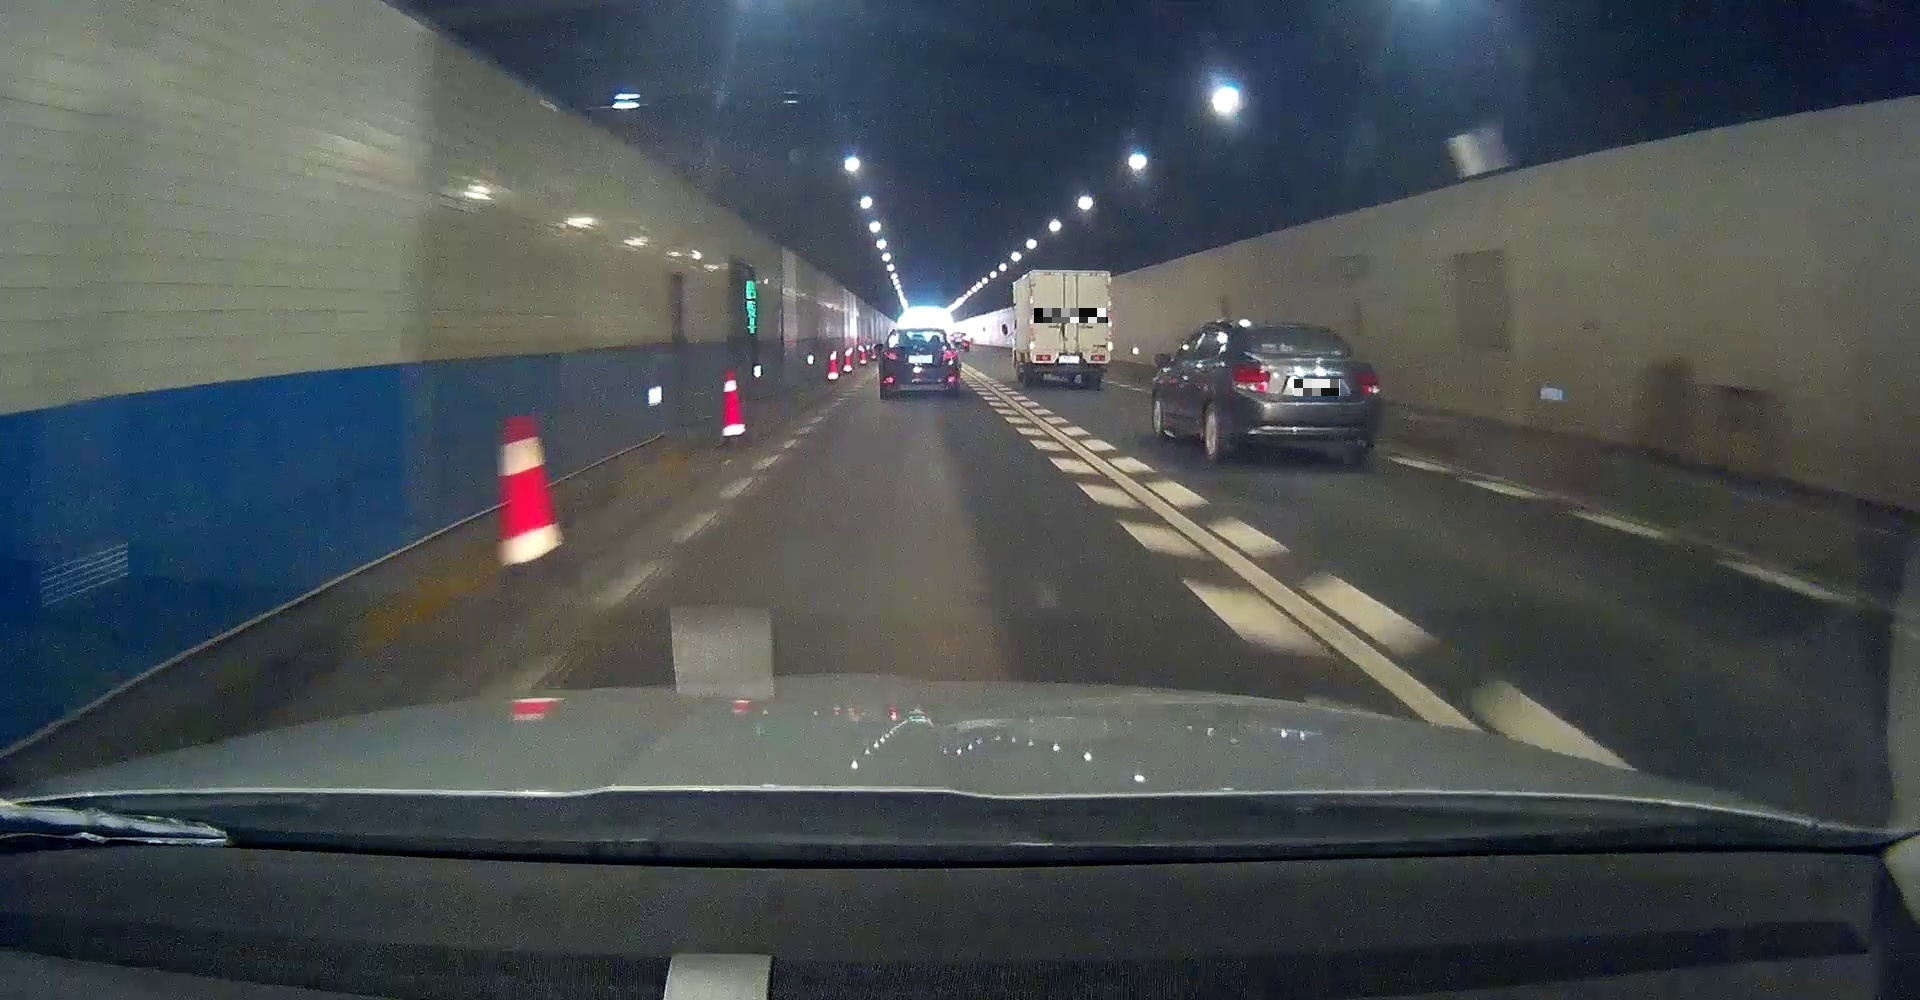L_light: (1232, 365, 1270, 393), (883, 352, 898, 360), (1036, 354, 1051, 362)
R_light: (1357, 372, 1380, 397), (943, 352, 957, 360), (1090, 354, 1106, 360)
T_light: (1279, 325, 1297, 331), (1062, 272, 1079, 275), (912, 329, 924, 332)
day-no: (1227, 320, 1380, 467), (1029, 269, 1111, 390), (881, 327, 959, 400)
plate_1: (1034, 308, 1109, 324)
plate_2: (1294, 379, 1340, 396)
